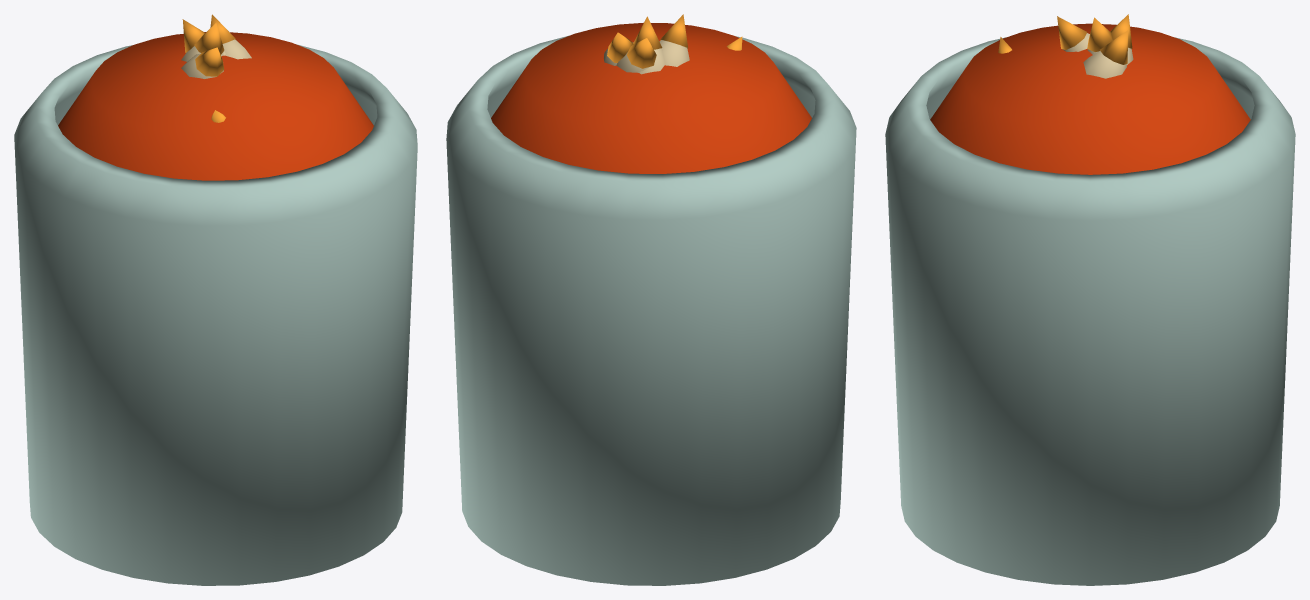
File: candy_corn_jar.obj
The picture shows the model from 3 angles, left to right: view 1: azimuth 30°, elevation 25°; view 2: azimuth 150°, elevation 25°; view 3: azimuth 270°, elevation 25°; orthographic projection.
Visible parts, largest first — view 1: LH_candy_corn_jar; view 2: LH_candy_corn_jar; view 3: LH_candy_corn_jar.
Part boxes in pixels (x1=…): LH_candy_corn_jar: x1=14, y1=14, x2=417, y2=585; LH_candy_corn_jar: x1=446, y1=14, x2=856, y2=585; LH_candy_corn_jar: x1=885, y1=14, x2=1295, y2=585.
Size of the model in its own units: 0.13 by 0.1712 by 0.13.
